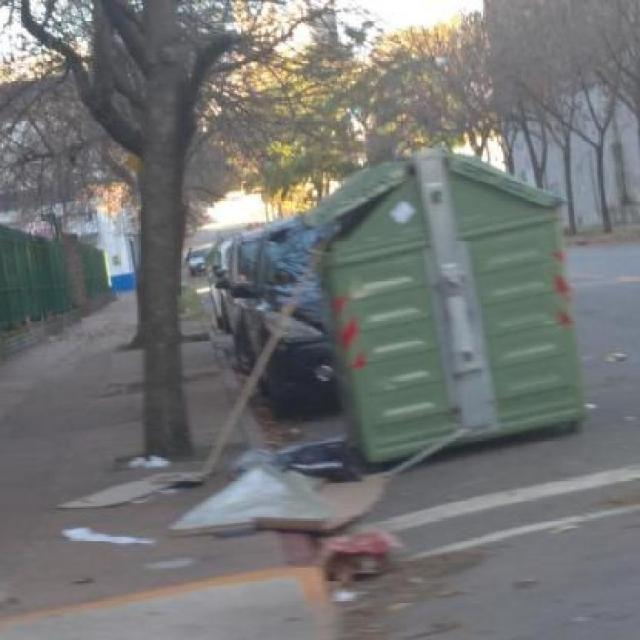garbage: (173, 457, 412, 547), (48, 463, 225, 518), (317, 509, 384, 586), (58, 523, 174, 564), (46, 323, 122, 350)
